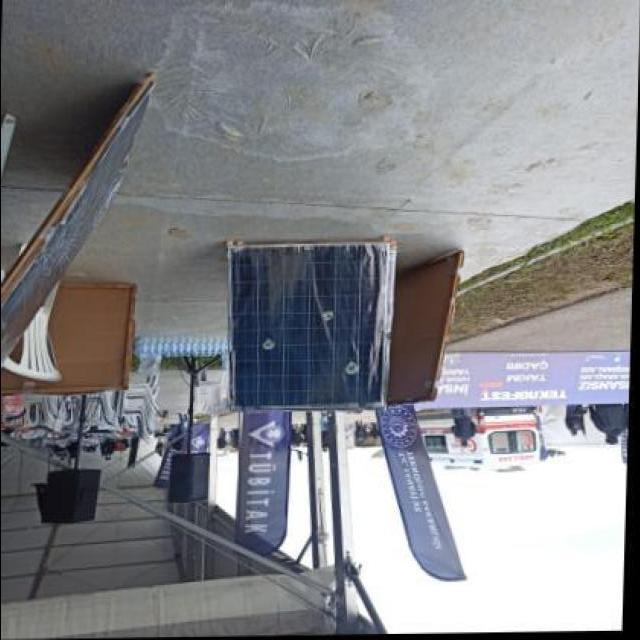soiled: (222, 240, 392, 414)
